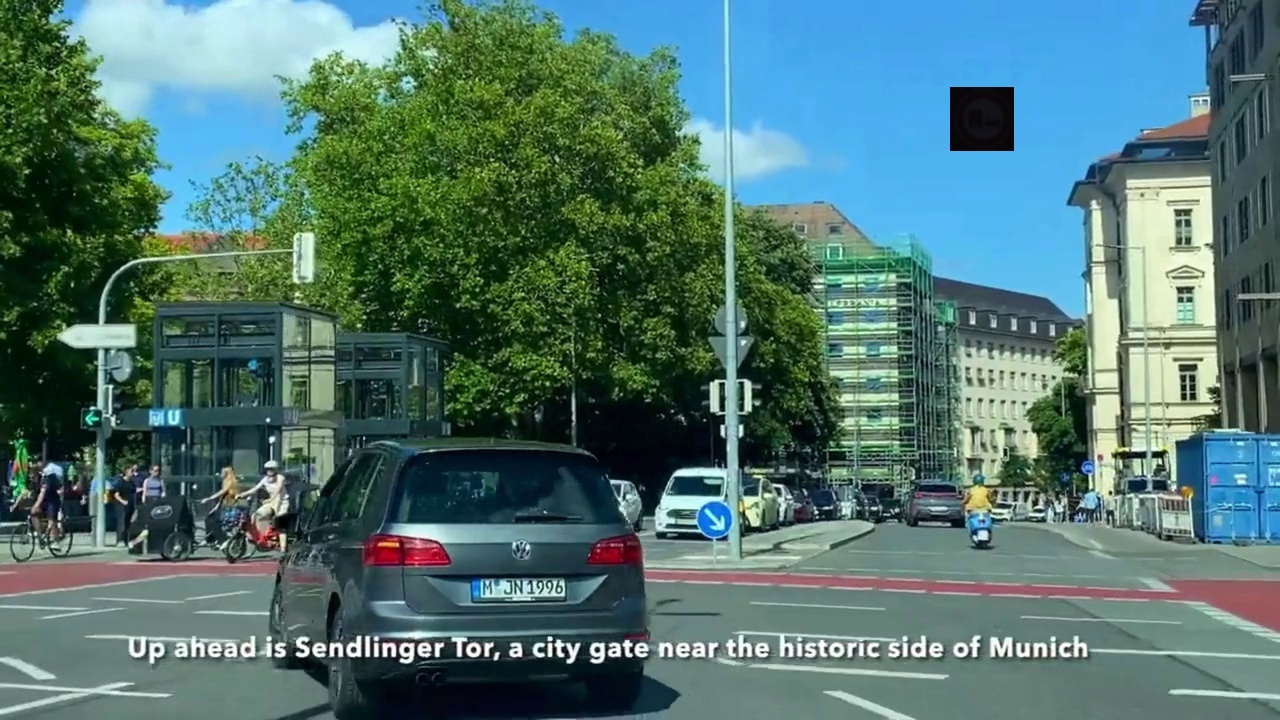No pass >3.5t: (950, 87, 1014, 151)
